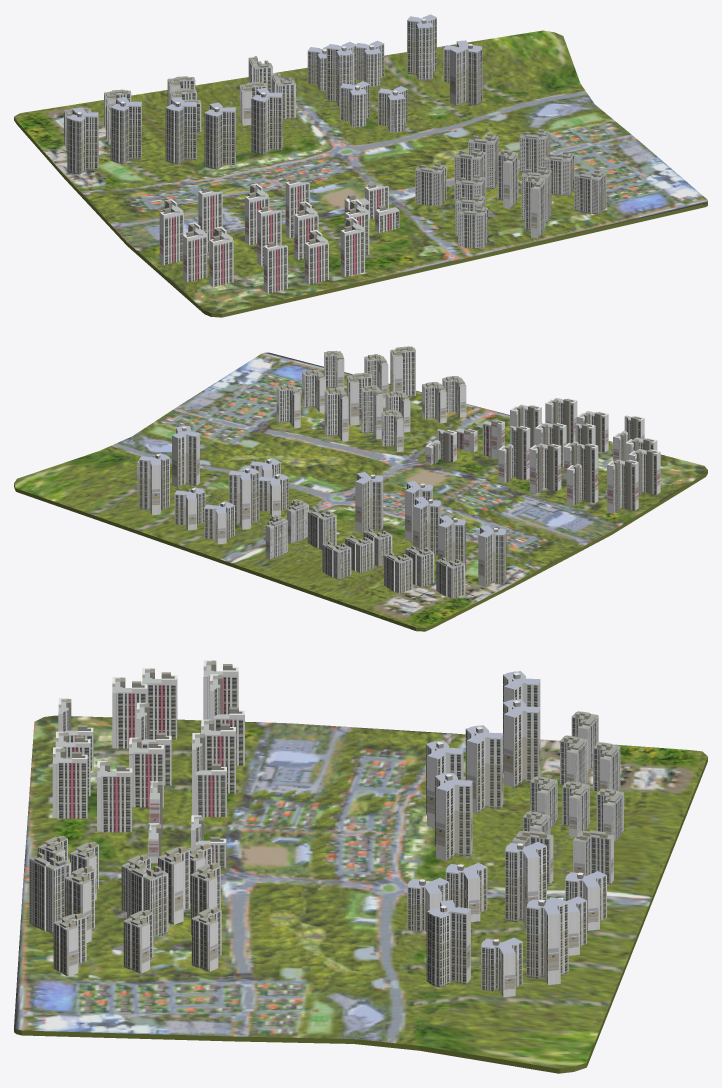
File: ICJ00102_D.glb
3 views of the same model, one above another, from view 1: azimuth 30°, elevation 25°; view 2: azimuth 150°, elevation 25°; view 3: azimuth 270°, elevation 25° (orthographic). The views are drawn at different scales.
Visible parts, largest first — view 1: MainBuilding; view 2: MainBuilding; view 3: MainBuilding.
Part boxes in pixels (<box>): MainBuilding: <box>14,14,707,317</box>; MainBuilding: <box>14,346,707,631</box>; MainBuilding: <box>14,660,707,1073</box>.
Bounding box in the file's own units: 9.56 × 1.07 × 7.94.
1 material, 1 textured.
